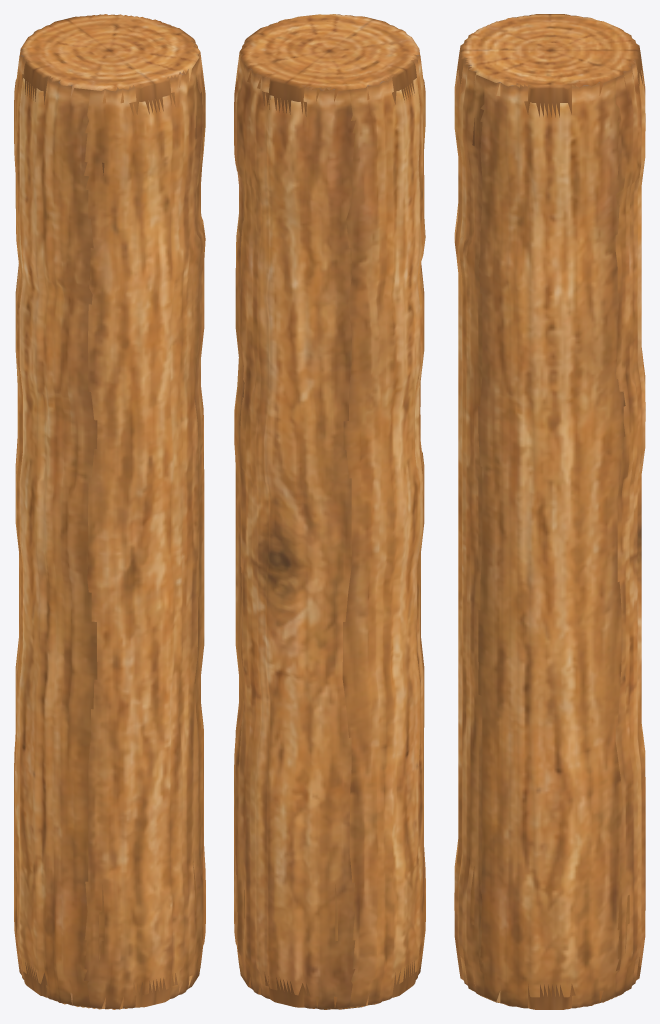
Rendered from post.glb.
The picture shows the model from 3 angles, left to right: view 1: azimuth 30°, elevation 25°; view 2: azimuth 150°, elevation 25°; view 3: azimuth 270°, elevation 25°; orthographic projection.
Bounding box in the file's own units: 0.1853 × 1 × 0.1875.
1 material, 1 textured.
